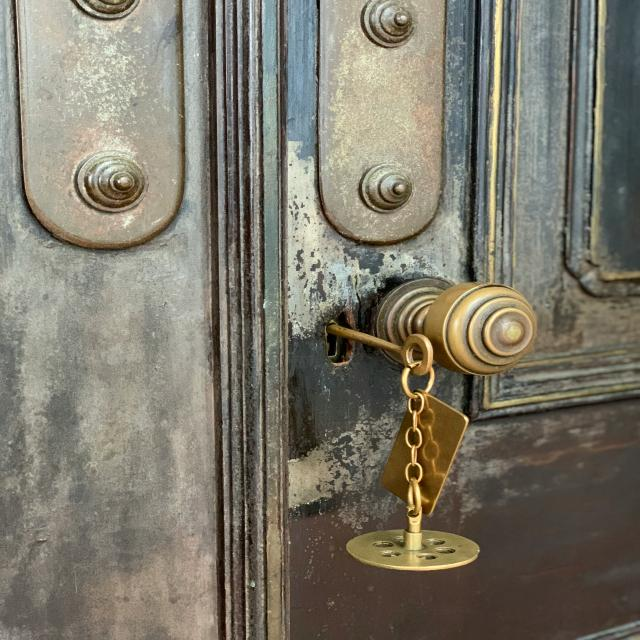door-knob: (375, 279, 537, 375)
